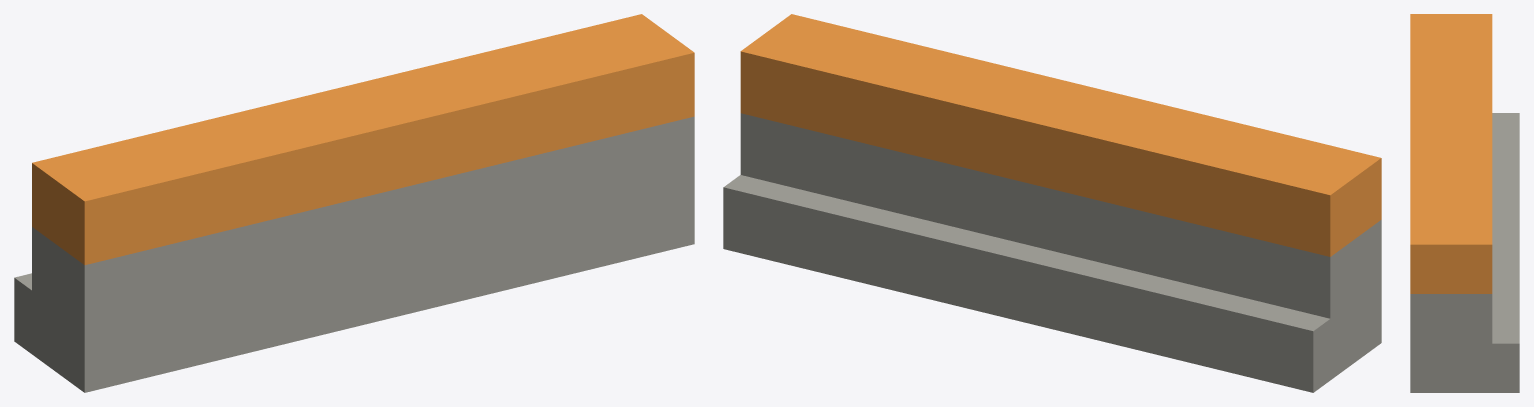
The model's file is lib_wall_low.glb.
The picture shows the model from 3 angles, left to right: view 1: azimuth 30°, elevation 25°; view 2: azimuth 150°, elevation 25°; view 3: azimuth 270°, elevation 25°; orthographic projection. The views are drawn at different scales.
Visible parts, largest first — view 1: wall; view 2: wall; view 3: wall.
Boxes of the visible parts, x1,y1,x2,y2 form: wall: (14,14,694,392); wall: (723,14,1381,392); wall: (1410,14,1519,392).
Bounding box in the file's own units: 2 × 0.6 × 0.4.
